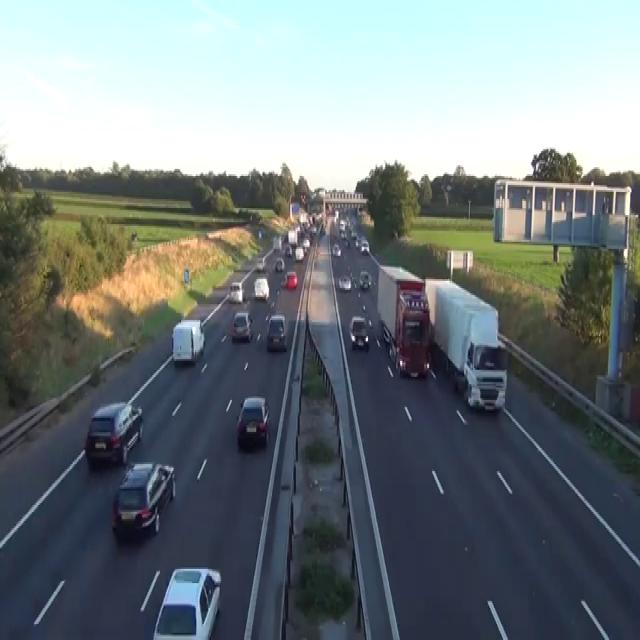Car: (152, 566, 221, 638), (111, 460, 175, 537), (84, 400, 143, 466), (463, 341, 507, 411), (236, 395, 269, 448), (266, 313, 286, 350), (348, 315, 369, 350), (231, 311, 253, 341), (228, 281, 245, 302), (253, 278, 269, 300), (284, 270, 297, 288), (338, 274, 351, 292), (359, 270, 370, 288), (272, 235, 282, 252), (294, 246, 304, 262), (360, 238, 369, 254), (256, 256, 266, 270), (331, 242, 341, 256), (275, 256, 284, 270), (301, 238, 310, 251), (284, 244, 292, 256), (309, 224, 316, 236), (319, 224, 326, 235), (280, 233, 287, 243), (339, 219, 345, 229), (350, 230, 357, 238), (356, 206, 361, 217), (300, 192, 305, 203), (355, 237, 360, 247), (340, 230, 346, 238), (345, 238, 350, 247), (258, 228, 262, 238)
Truck: (424, 276, 507, 410), (376, 263, 431, 379), (171, 318, 205, 364)
